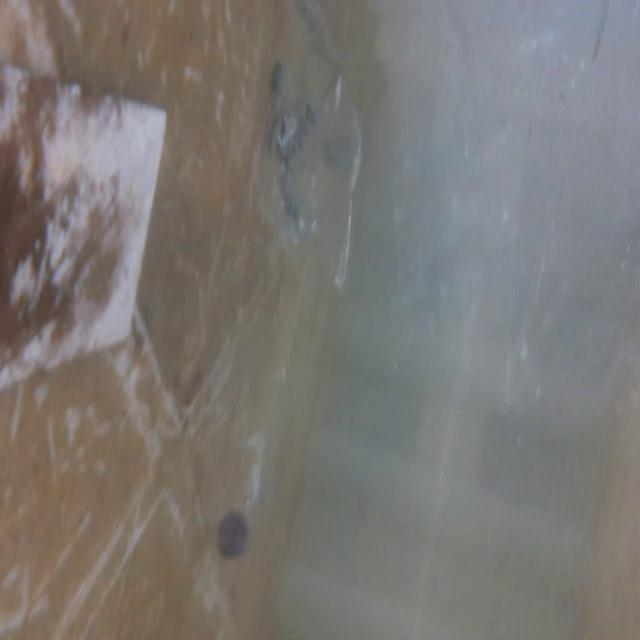plastic bags: (250, 0, 366, 307)
plastic bottle: (211, 302, 294, 588)
